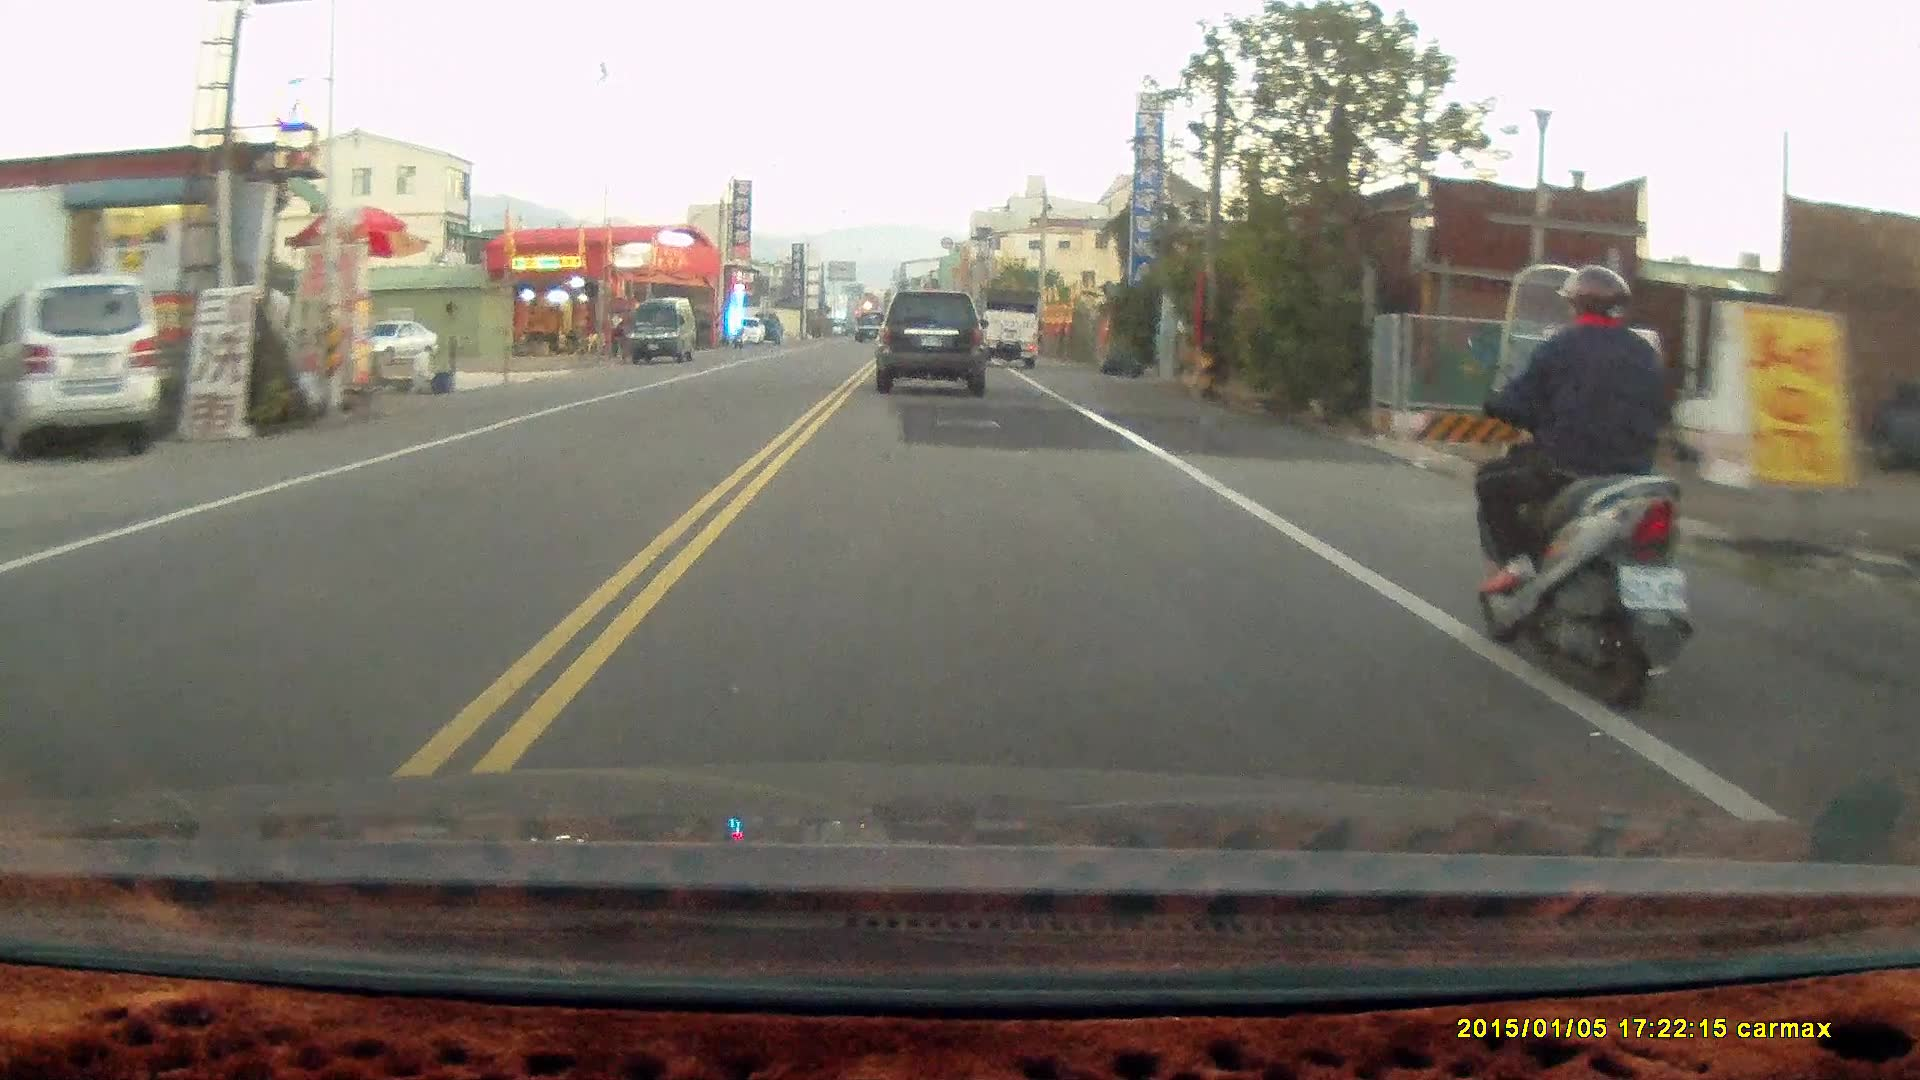rider: (1465, 263, 1693, 718)
vehicle: (6, 272, 163, 460), (878, 290, 988, 394), (980, 286, 1043, 368), (629, 296, 696, 362), (353, 319, 438, 366)
